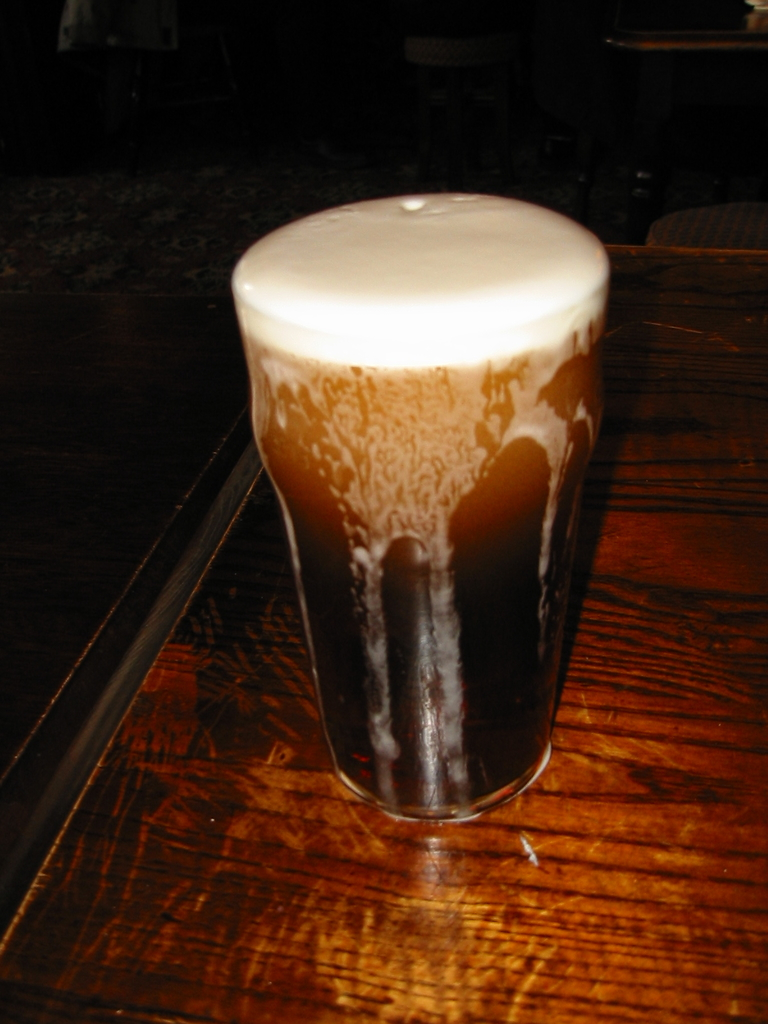Beer: (230, 192, 609, 820)
